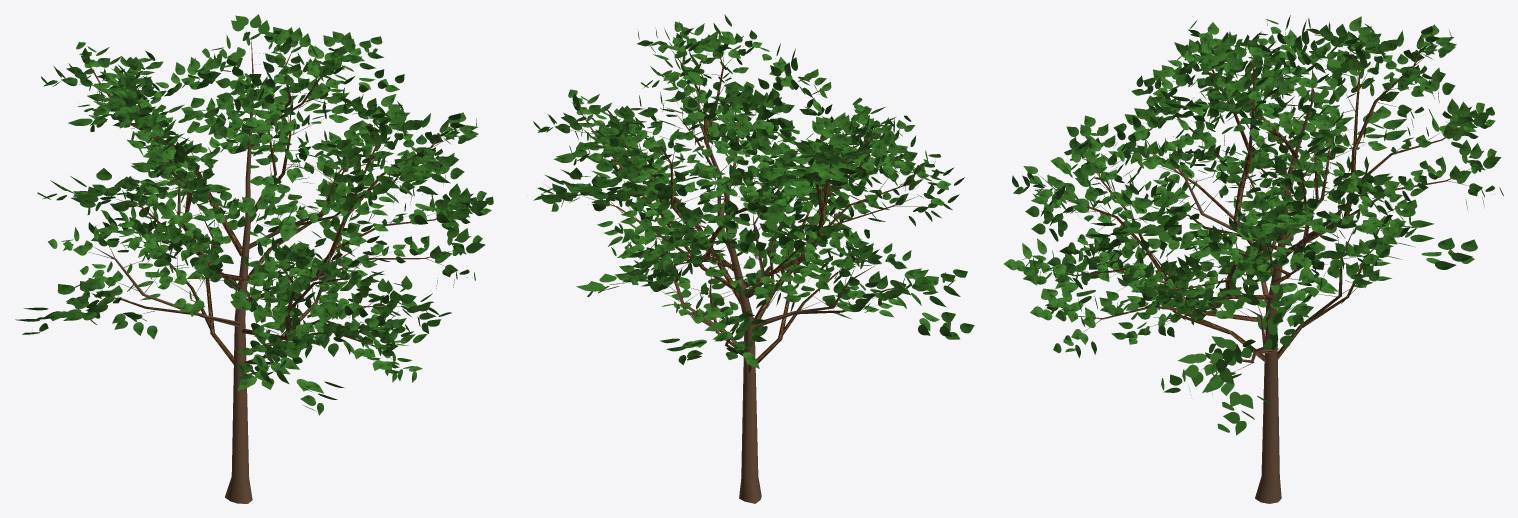
File: tree1.glb
3 renders of one model, left to right at view 1: azimuth 30°, elevation 25°; view 2: azimuth 150°, elevation 25°; view 3: azimuth 270°, elevation 25°, orthographic. The views are drawn at different scales.
Parts seen in each view (by area): view 1: Tree1; view 2: Tree1; view 3: Tree1.
Part boxes in pixels (x1,y1,x2,y2): Tree1: (15, 14, 493, 503); Tree1: (533, 14, 974, 503); Tree1: (1004, 15, 1503, 503).
Size of the model in its own units: 6.77 by 6.8 by 6.29.
2 materials, 2 textured.
